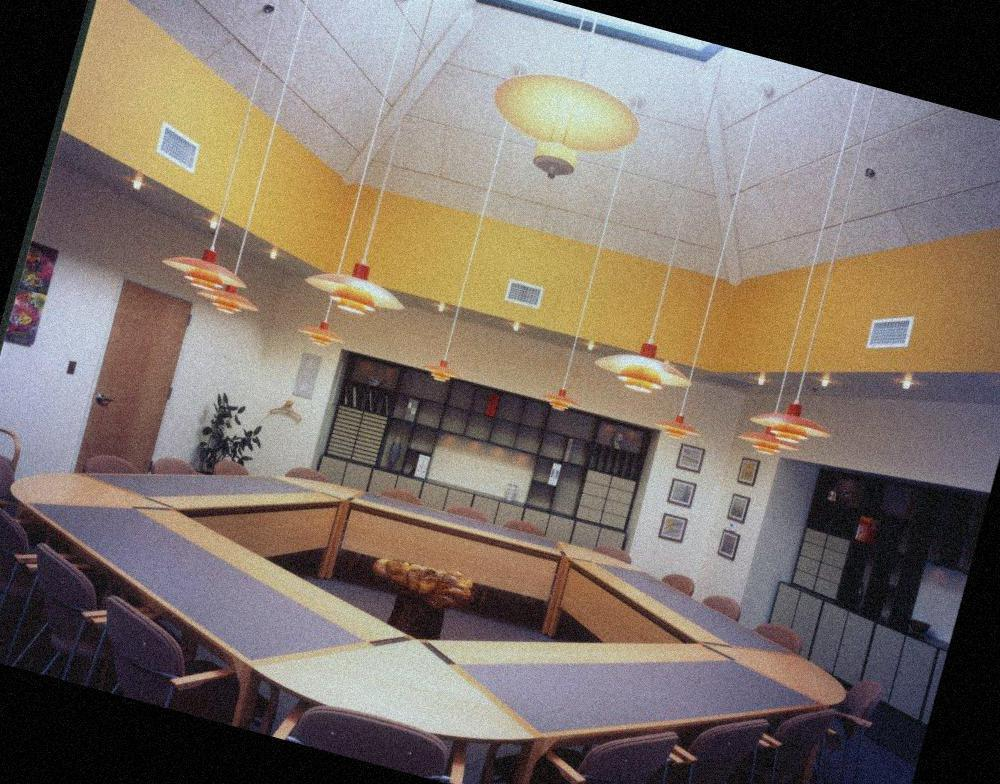Puerta: (81, 280, 200, 471)
